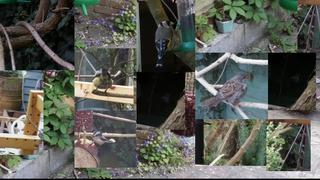blue tit: (92, 68, 114, 96)
dunnock: (199, 73, 248, 109)
goldfinch: (155, 20, 175, 68)
long tailed tit: (90, 130, 116, 148)
